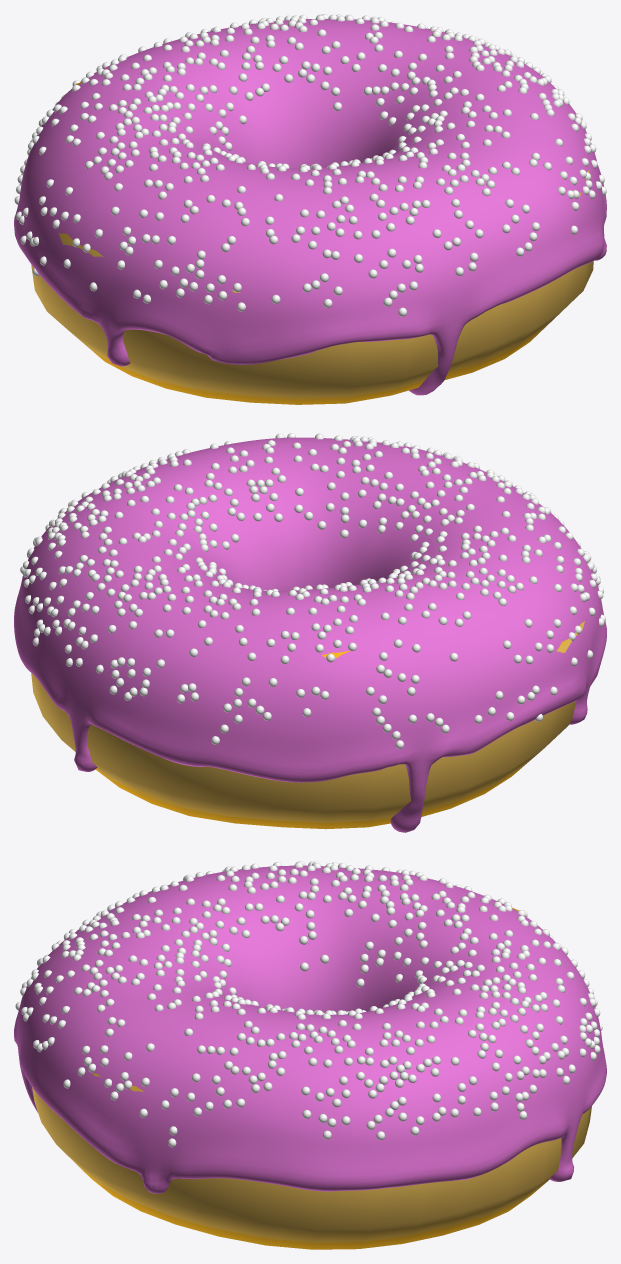
File: donut6.glb
3 views of the same model, one above another, from view 1: azimuth 30°, elevation 25°; view 2: azimuth 150°, elevation 25°; view 3: azimuth 270°, elevation 25° (orthographic). The views are drawn at different scales.
Parts seen in each view (by area): view 1: Icing.006, Donut.006; view 2: Icing.006, Donut.006; view 3: Icing.006, Donut.006.
Part boxes in pixels (bbox=[...]): Icing.006: bbox=[14, 18, 606, 395]; Donut.006: bbox=[31, 81, 593, 404]; Icing.006: bbox=[14, 437, 606, 832]; Donut.006: bbox=[31, 621, 584, 829]; Icing.006: bbox=[14, 865, 606, 1193]; Donut.006: bbox=[32, 907, 591, 1249].
Size of the model in its own units: 0.1242 by 0.0512 by 0.1222.
3 materials, 1 textured.
